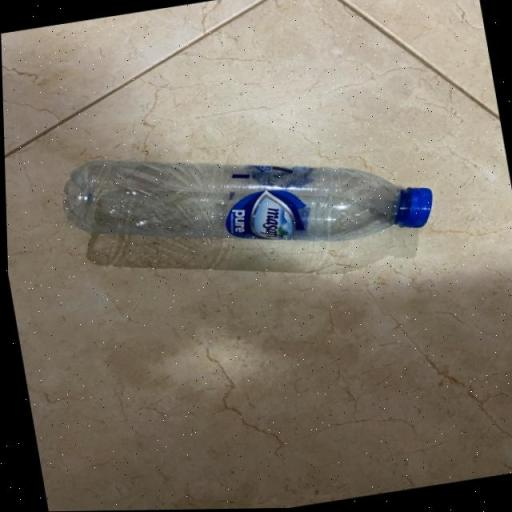plastic: (44, 102, 458, 292)
